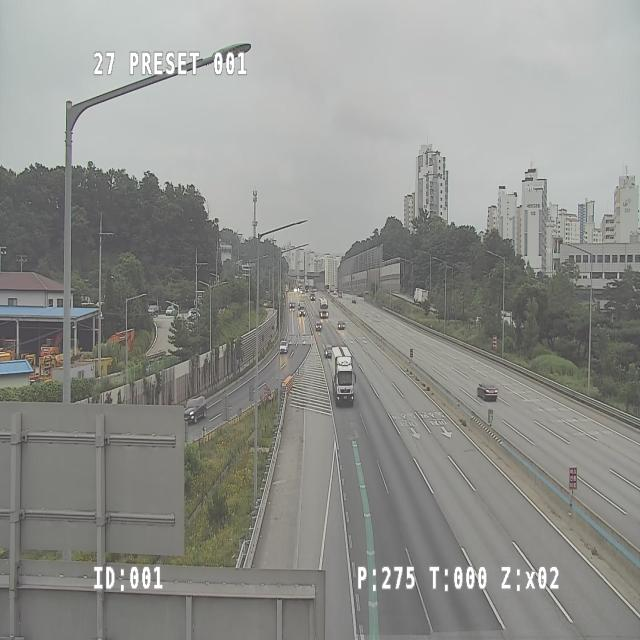Car: (184, 396, 207, 422), (476, 383, 498, 402), (322, 336, 335, 361), (312, 317, 324, 336), (337, 313, 346, 333), (287, 296, 297, 311), (279, 340, 288, 353), (309, 293, 316, 303)
Truck: (332, 347, 357, 409), (318, 297, 328, 319), (298, 302, 306, 318)
